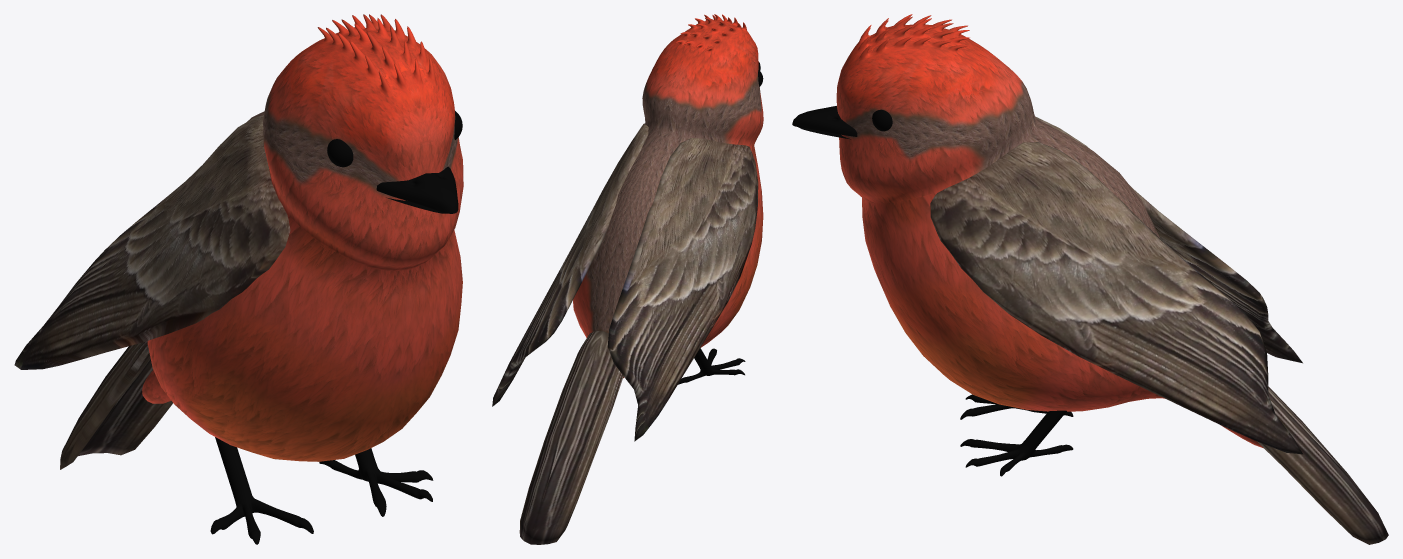
The model's file is Churrinche.glb.
3 views of the same model, side by side, from view 1: azimuth 30°, elevation 25°; view 2: azimuth 150°, elevation 25°; view 3: azimuth 270°, elevation 25° (orthographic). The views are drawn at different scales.
Visible parts, largest first — view 1: Pyrocephalus rubinus; view 2: Pyrocephalus rubinus; view 3: Pyrocephalus rubinus.
Boxes of the visible parts, box(x1,y1,x2,y2) form: Pyrocephalus rubinus: box(14, 14, 463, 544); Pyrocephalus rubinus: box(492, 14, 763, 544); Pyrocephalus rubinus: box(792, 14, 1388, 544).
Bounding box in the file's own units: 3.75 × 8.77 × 9.23.
Materials: 4 (4 with a texture image).
